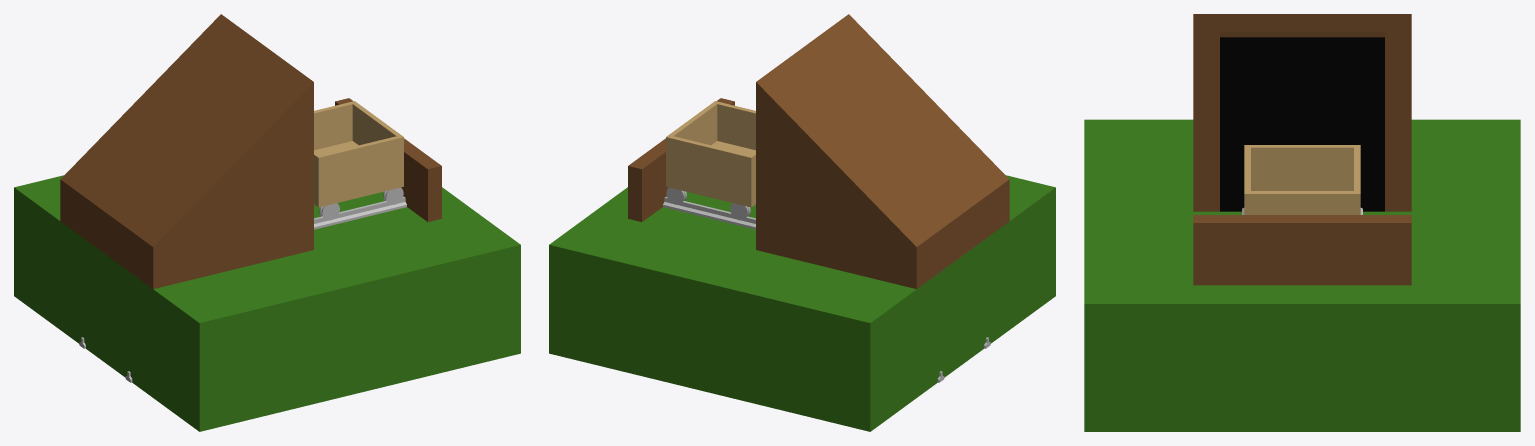
The model's file is lvl1.glb.
The picture shows the model from 3 angles, left to right: view 1: azimuth 30°, elevation 25°; view 2: azimuth 150°, elevation 25°; view 3: azimuth 270°, elevation 25°; orthographic projection. The views are drawn at different scales.
Parts seen in each view (by area): view 1: Plane, Cube, Circle.002, Cube.003, Cube.001; view 2: Plane, Cube, Circle.002, Cube.003, Cube.002; view 3: Plane, Plane.001, Cube.003, Cube, Circle.002.
Boxes of the visible parts, x1=… form: Plane: x1=14, y1=175, x2=520, y2=431; Cube: x1=60, y1=14, x2=313, y2=289; Circle.002: x1=314, y1=101, x2=403, y2=220; Cube.003: x1=335, y1=98, x2=441, y2=221; Cube.001: x1=125, y1=196, x2=406, y2=382; Plane: x1=549, y1=175, x2=1055, y2=431; Cube: x1=756, y1=14, x2=1009, y2=289; Circle.002: x1=666, y1=101, x2=755, y2=220; Cube.003: x1=628, y1=98, x2=734, y2=221; Cube.002: x1=663, y1=196, x2=944, y2=382; Plane: x1=1084, y1=119, x2=1520, y2=431; Plane.001: x1=1220, y1=37, x2=1384, y2=211; Cube.003: x1=1193, y1=215, x2=1411, y2=285; Cube: x1=1193, y1=14, x2=1411, y2=211; Circle.002: x1=1244, y1=145, x2=1360, y2=214.
Size of the model in its own units: 4.02 by 3.37 by 4.
